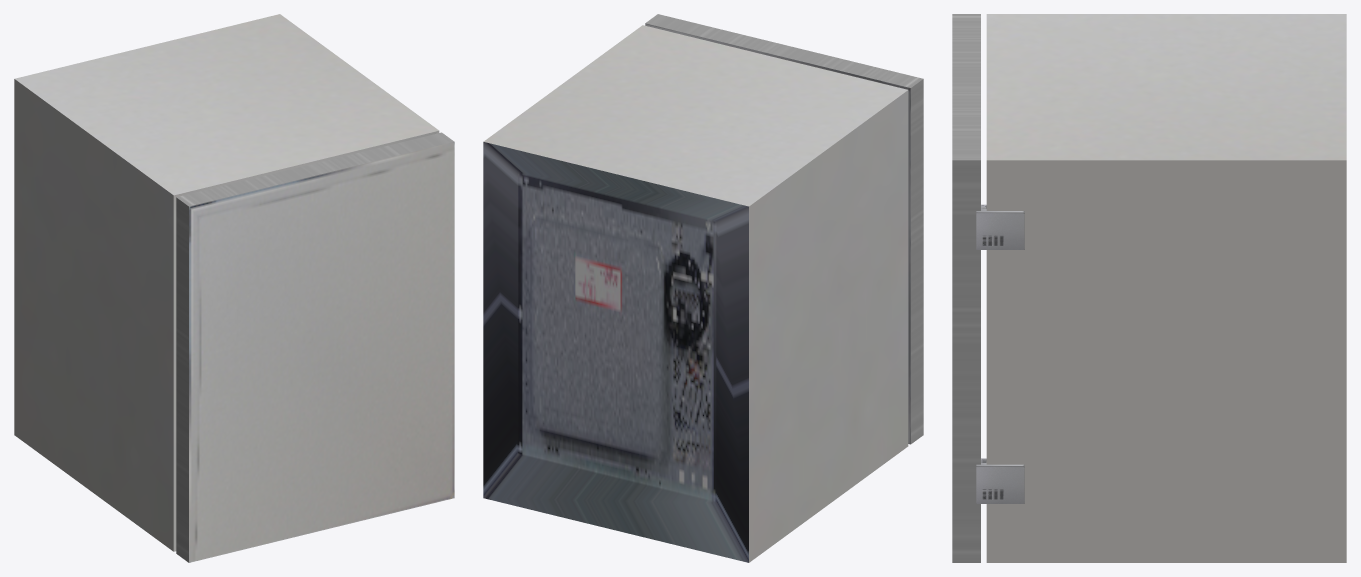
The model's file is fridge.FBX.
3 renders of one model, left to right at view 1: azimuth 30°, elevation 25°; view 2: azimuth 150°, elevation 25°; view 3: azimuth 270°, elevation 25°, orthographic. The views are drawn at different scales.
Visible parts, largest first — view 1: Object004, Object007, Object005; view 2: Object004, Object009, Object005, Object008; view 3: Object004, Object005, Box002.
Part boxes in pixels (bbox=[...]): Object004: bbox=[14, 14, 439, 551]; Object007: bbox=[189, 142, 454, 562]; Object005: bbox=[176, 132, 454, 562]; Object004: bbox=[483, 25, 908, 562]; Object009: bbox=[483, 142, 748, 562]; Object005: bbox=[645, 14, 923, 443]; Object008: bbox=[645, 23, 910, 444]; Object004: bbox=[986, 14, 1346, 562]; Object005: bbox=[952, 14, 980, 562]; Box002: bbox=[976, 204, 1024, 503].
Size of the model in its own units: 176 by 223 by 198.
Materials: 7 (7 with a texture image).
